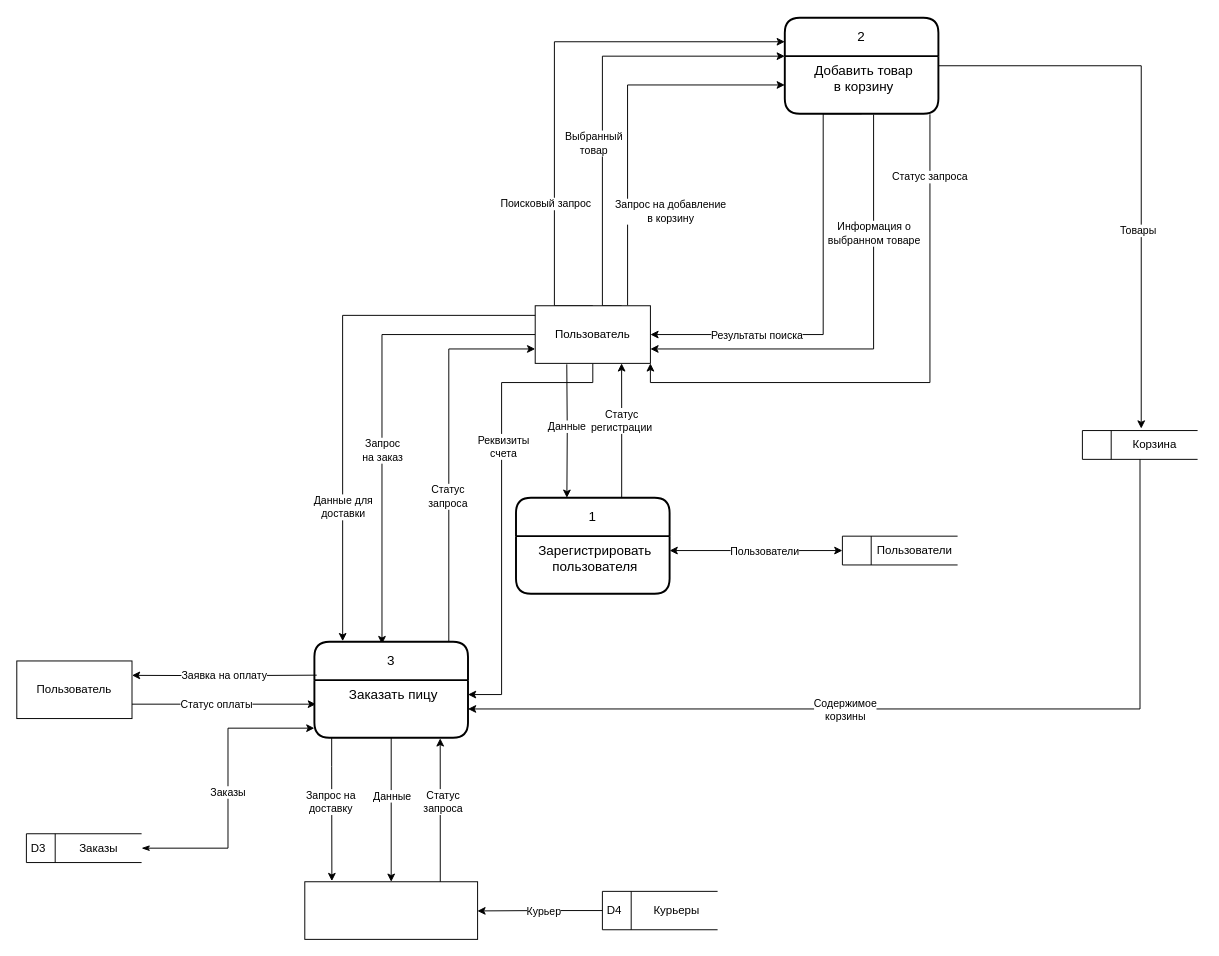
This 1219x956 diagram has some shape labels left out. The box of each missing label's shape, as (x1, y1, x2, y2) in pixels:
D1: (841, 535, 958, 565)
D2: (1081, 430, 1198, 459)
Отдел доставки: (304, 881, 478, 939)
